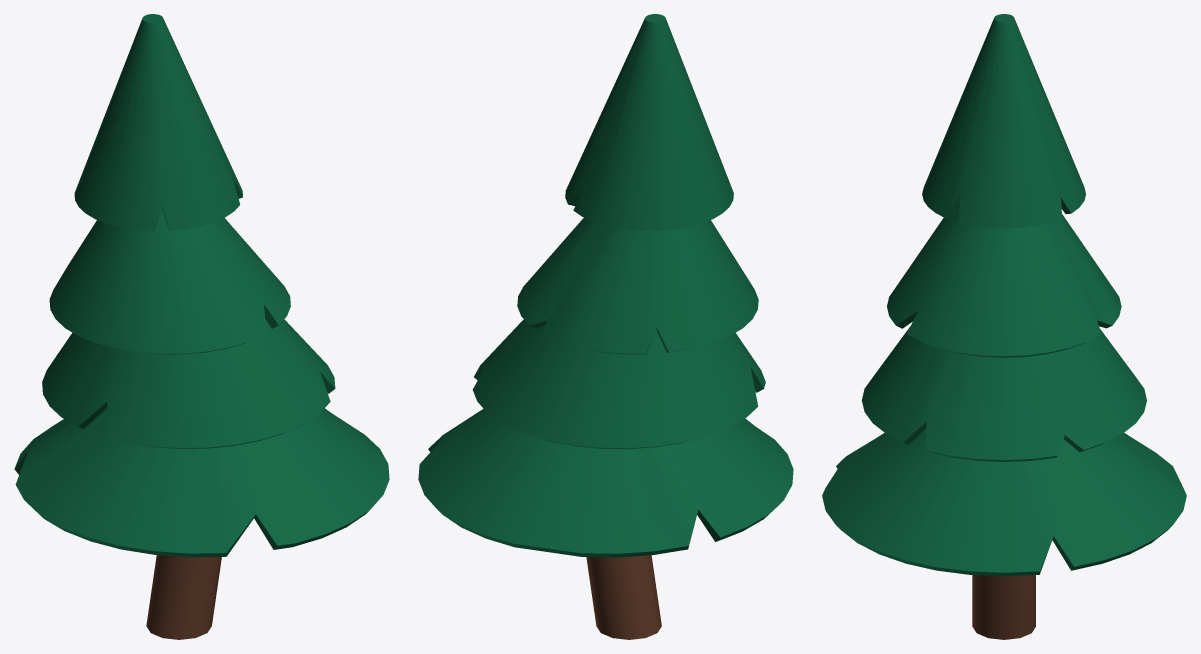
Rendered from pine.fbx.
3 renders of one model, left to right at view 1: azimuth 30°, elevation 25°; view 2: azimuth 150°, elevation 25°; view 3: azimuth 270°, elevation 25°, orthographic. The views are drawn at different scales.
Parts seen in each view (by area): view 1: Circle, Cylinder; view 2: Circle, Cylinder; view 3: Circle, Cylinder.
Boxes of the visible parts, left/top/right/bottom form: Circle: left=14, top=14, right=389, bottom=557; Cylinder: left=146, top=555, right=221, bottom=639; Circle: left=418, top=14, right=793, bottom=557; Cylinder: left=586, top=555, right=661, bottom=639; Circle: left=822, top=14, right=1186, bottom=576; Cylinder: left=972, top=575, right=1035, bottom=639.
Bounding box in the file's own units: 334 × 601 × 334.
